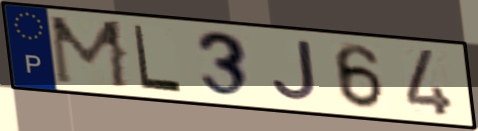3: (193, 28, 257, 101)
4: (402, 47, 456, 119)
6: (330, 41, 386, 112)
J: (269, 39, 319, 104)
L: (131, 22, 185, 95)
M: (46, 14, 134, 93)
